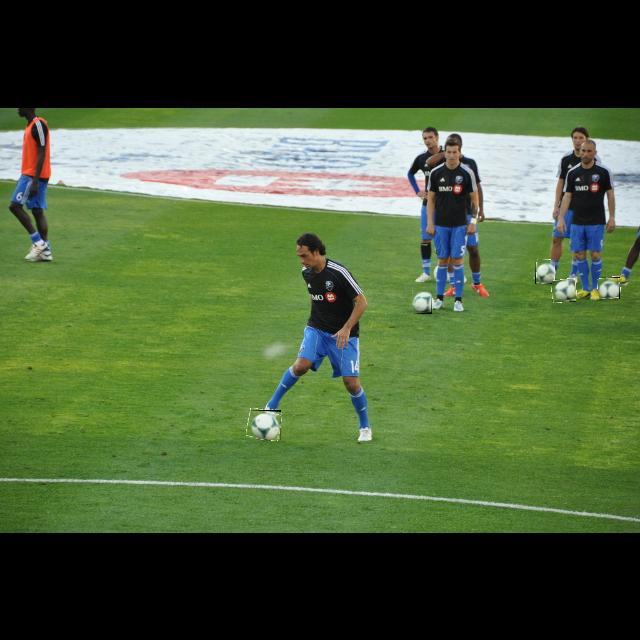Football: (247, 410, 281, 440), (552, 280, 576, 302), (598, 277, 620, 299), (412, 290, 432, 314), (535, 260, 555, 284)
